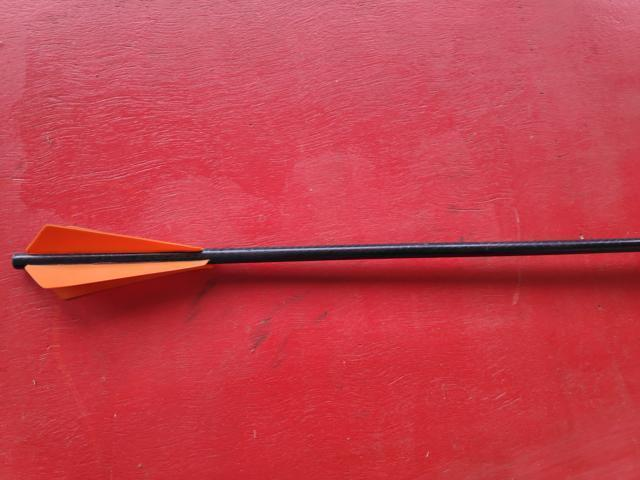Tail: (8, 221, 217, 304)
